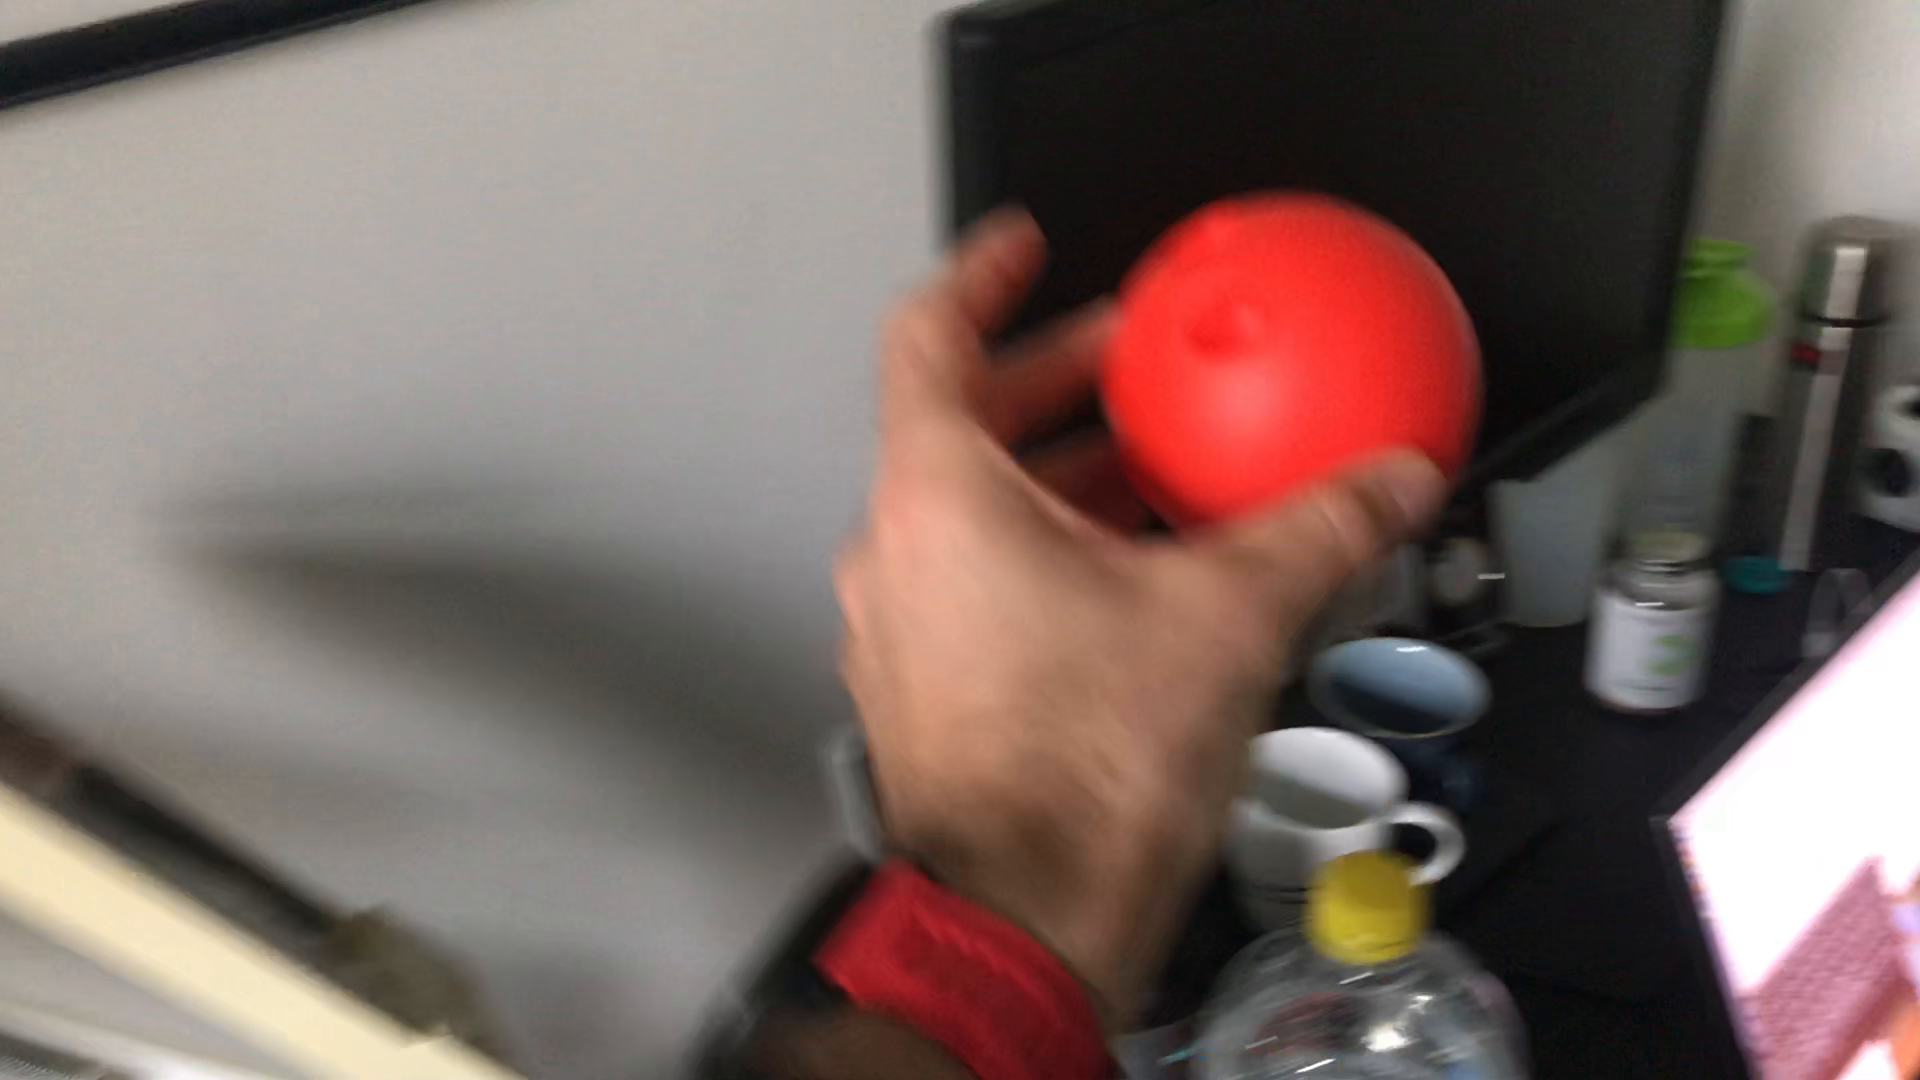Ball: (1102, 189, 1481, 566)
